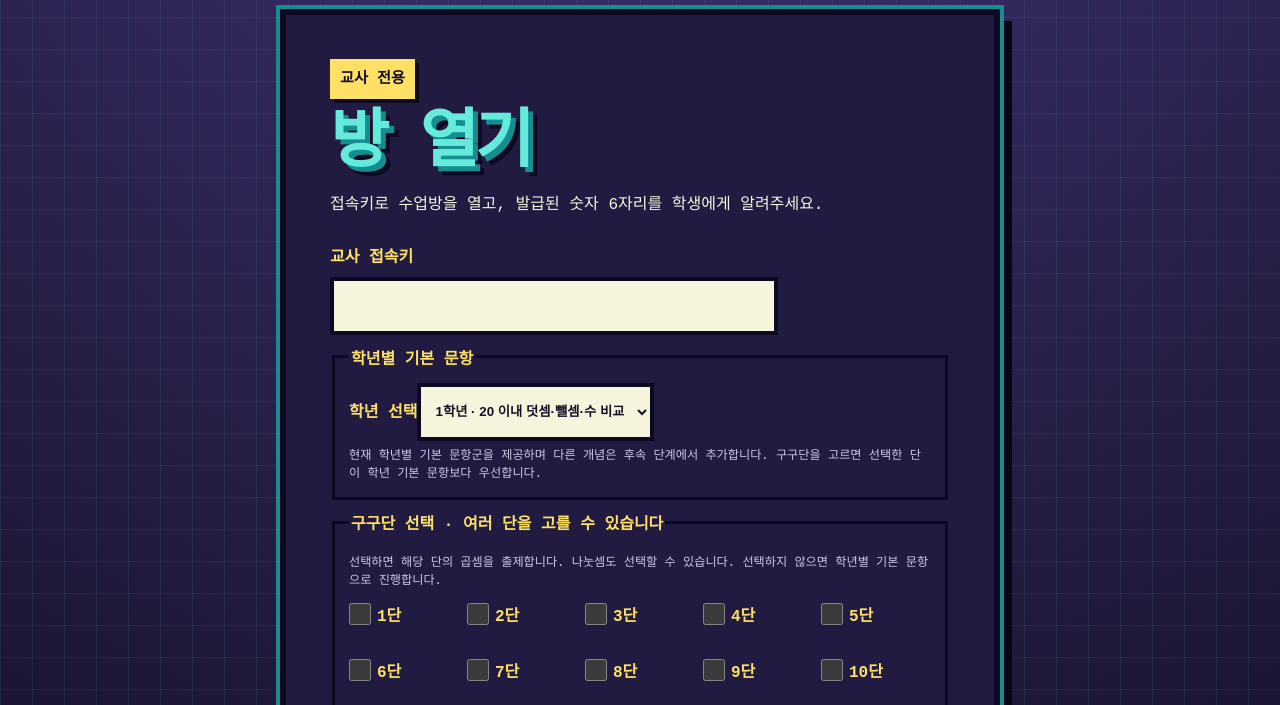
Test: 교사 방 화면 › 접속키가 거절되면 시험 플레이로 이동하지 않는다
The image size is (1280, 705).
Type "wrong-key" into the password field labelled "교사 접속키".
click(554, 306); type("wrong-key")  # box [330,277,778,335]
(page scrolled)
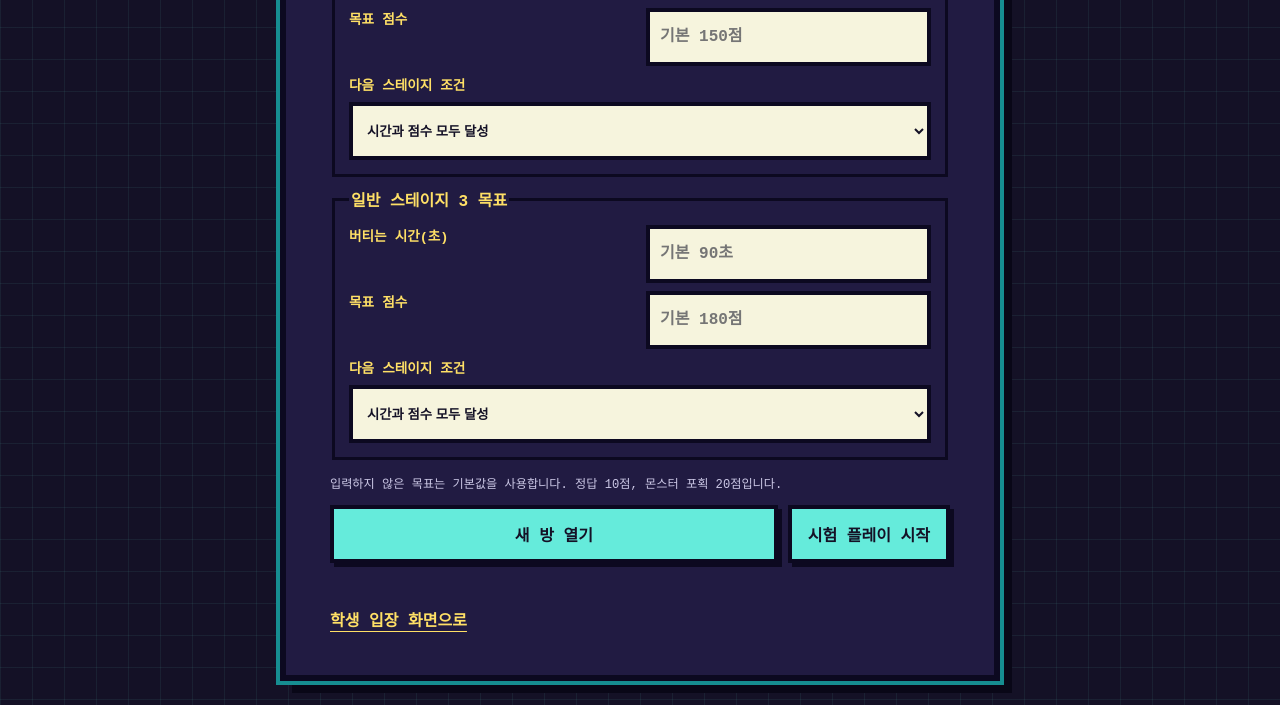
Click the button "시험 플레이 시작".
click(869, 534)  # box [788,505,950,563]
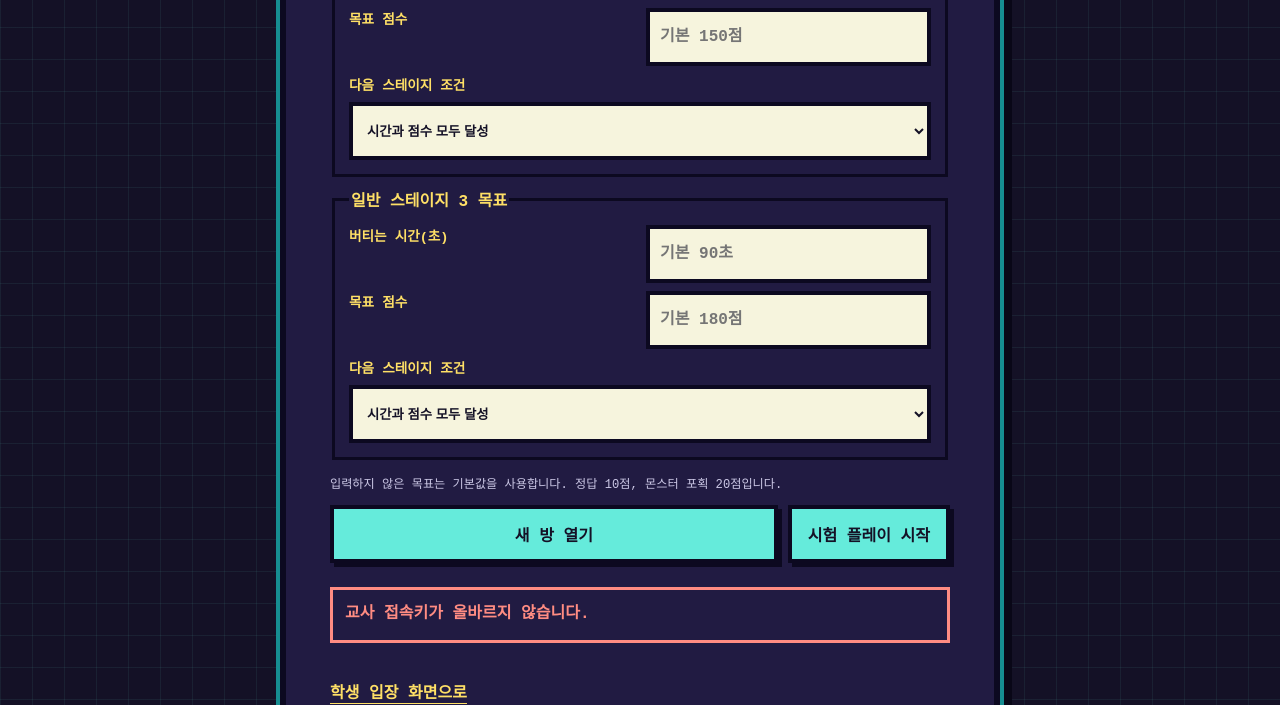
Result: the message reads "교사 접속키가 올바르지 않습니다." at [345,605,590,623]
